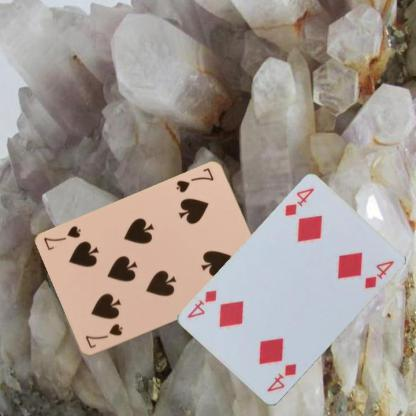4d: (282, 185, 315, 218), (264, 362, 298, 394)
7s: (173, 165, 215, 194), (83, 321, 124, 350)
